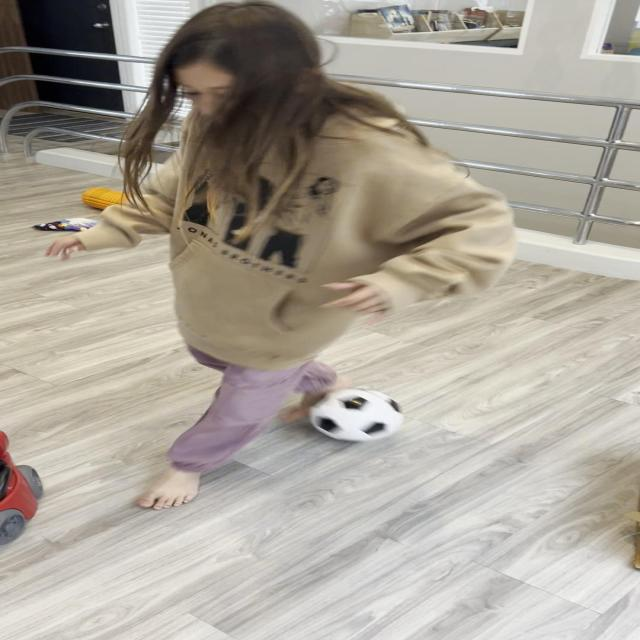Soccer Ball: (308, 388, 407, 440)
